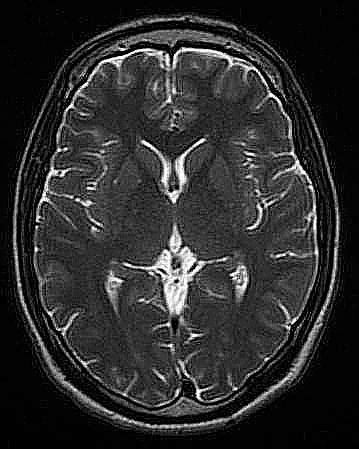Normal_Brain: (3, 2, 359, 449)
